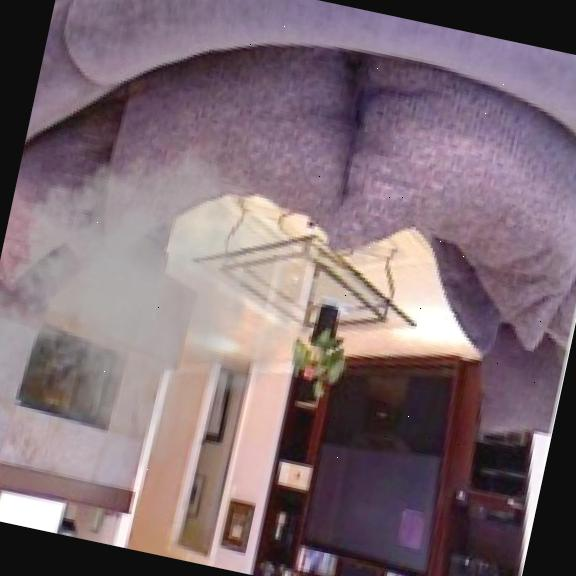smoke: (0, 93, 352, 555)
